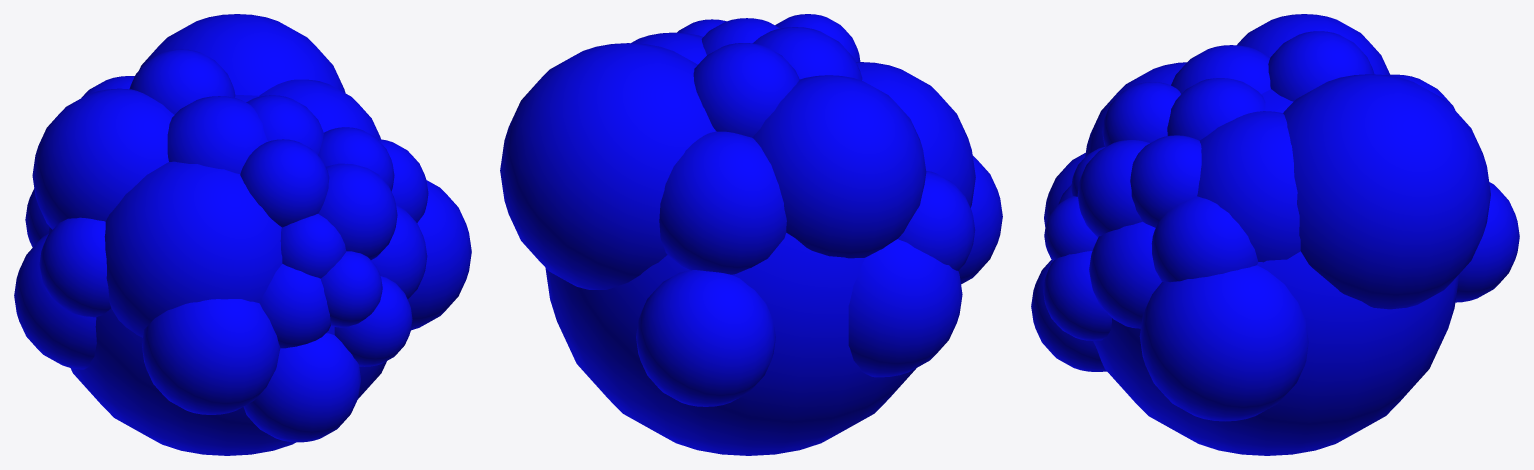
The model's file is PlanetWasser.FBX.
3 views of the same model, side by side, from view 1: azimuth 30°, elevation 25°; view 2: azimuth 150°, elevation 25°; view 3: azimuth 270°, elevation 25° (orthographic). The views are drawn at different scales.
Visible parts, largest first — view 1: Sphere009, Sphere013, Sphere007, Sphere003, Sphere020, Sphere006, Sphere022, Sphere011, Sphere021, Sphere005, Sphere004, Sphere008 (+12 smaller); view 2: Sphere006, Sphere003, Sphere013, Sphere010, Sphere012, Sphere004, Sphere014, Sphere009, Sphere011, Sphere022, Sphere007, Sphere015 (+2 smaller); view 3: Sphere006, Sphere003, Sphere005, Sphere017, Sphere016, Sphere023, Sphere024, Sphere014, Sphere008, Sphere019, Sphere015, Sphere010 (+7 smaller).
Part boxes in pixels (left/top/right/bottom): Sphere009: left=104, top=161, right=282, bottom=337; Sphere013: left=32, top=88, right=174, bottom=229; Sphere007: left=142, top=299, right=280, bottom=414; Sphere003: left=48, top=95, right=386, bottom=455; Sphere020: left=243, top=333, right=360, bottom=442; Sphere006: left=139, top=14, right=345, bottom=95; Sphere022: left=167, top=96, right=267, bottom=173; Sphere011: left=39, top=217, right=111, bottom=317; Sphere021: left=240, top=139, right=329, bottom=227; Sphere005: left=408, top=180, right=471, bottom=330; Sphere004: left=14, top=233, right=96, bottom=369; Sphere008: left=318, top=163, right=397, bottom=259; Sphere006: left=500, top=43, right=716, bottom=289; Sphere003: left=545, top=233, right=916, bottom=455; Sphere013: left=752, top=75, right=926, bottom=258; Sphere010: left=636, top=270, right=775, bottom=406; Sphere012: left=659, top=131, right=786, bottom=274; Sphere004: left=848, top=239, right=962, bottom=377; Sphere014: left=693, top=43, right=799, bottom=137; Sphere009: left=856, top=62, right=975, bottom=207; Sphere011: left=898, top=171, right=975, bottom=270; Sphere022: left=753, top=27, right=862, bottom=80; Sphere007: left=958, top=155, right=1002, bottom=284; Sphere015: left=701, top=18, right=779, bottom=54; Sphere006: left=1283, top=74, right=1490, bottom=309; Sphere003: left=1093, top=89, right=1459, bottom=455; Sphere005: left=1139, top=265, right=1308, bottom=421; Sphere017: left=1197, top=111, right=1300, bottom=262; Sphere016: left=1151, top=196, right=1258, bottom=282; Sphere023: left=1089, top=221, right=1161, bottom=328; Sphere024: left=1130, top=135, right=1201, bottom=227; Sphere014: left=1268, top=31, right=1374, bottom=101; Sphere008: left=1077, top=140, right=1149, bottom=237; Sphere019: left=1043, top=251, right=1111, bottom=340; Sphere015: left=1167, top=78, right=1265, bottom=140; Sphere010: left=1455, top=182, right=1519, bottom=302.
Size of the model in its own units: 11.51 by 10.08 by 11.4.
